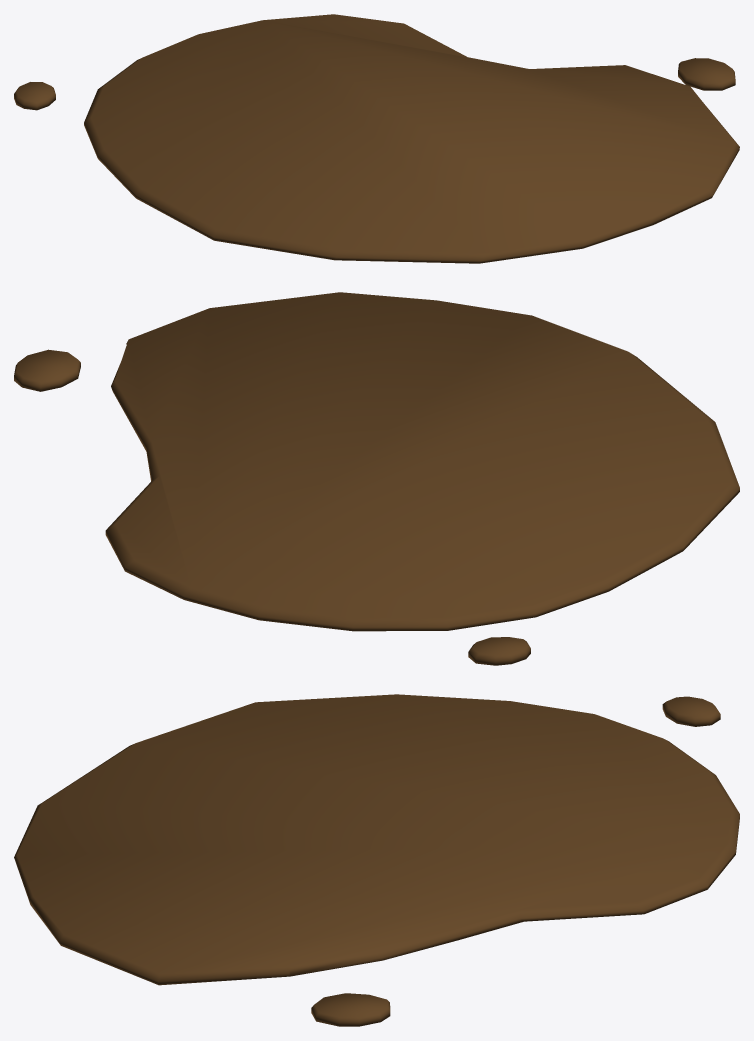
Rendered from lama04.fbx.
The picture shows the model from 3 angles, top to bottom: view 1: azimuth 30°, elevation 25°; view 2: azimuth 150°, elevation 25°; view 3: azimuth 270°, elevation 25°; orthographic projection. The views are drawn at different scales.
Visible parts, largest first — view 1: poça_lama; view 2: poça_lama; view 3: poça_lama.
Part boxes in pixels (x1=…): poça_lama: x1=14, y1=14, x2=739, y2=263; poça_lama: x1=14, y1=292, x2=739, y2=665; poça_lama: x1=14, y1=694, x2=739, y2=1026.
Bounding box in the file's own units: 677 × 637 × 22.9.
